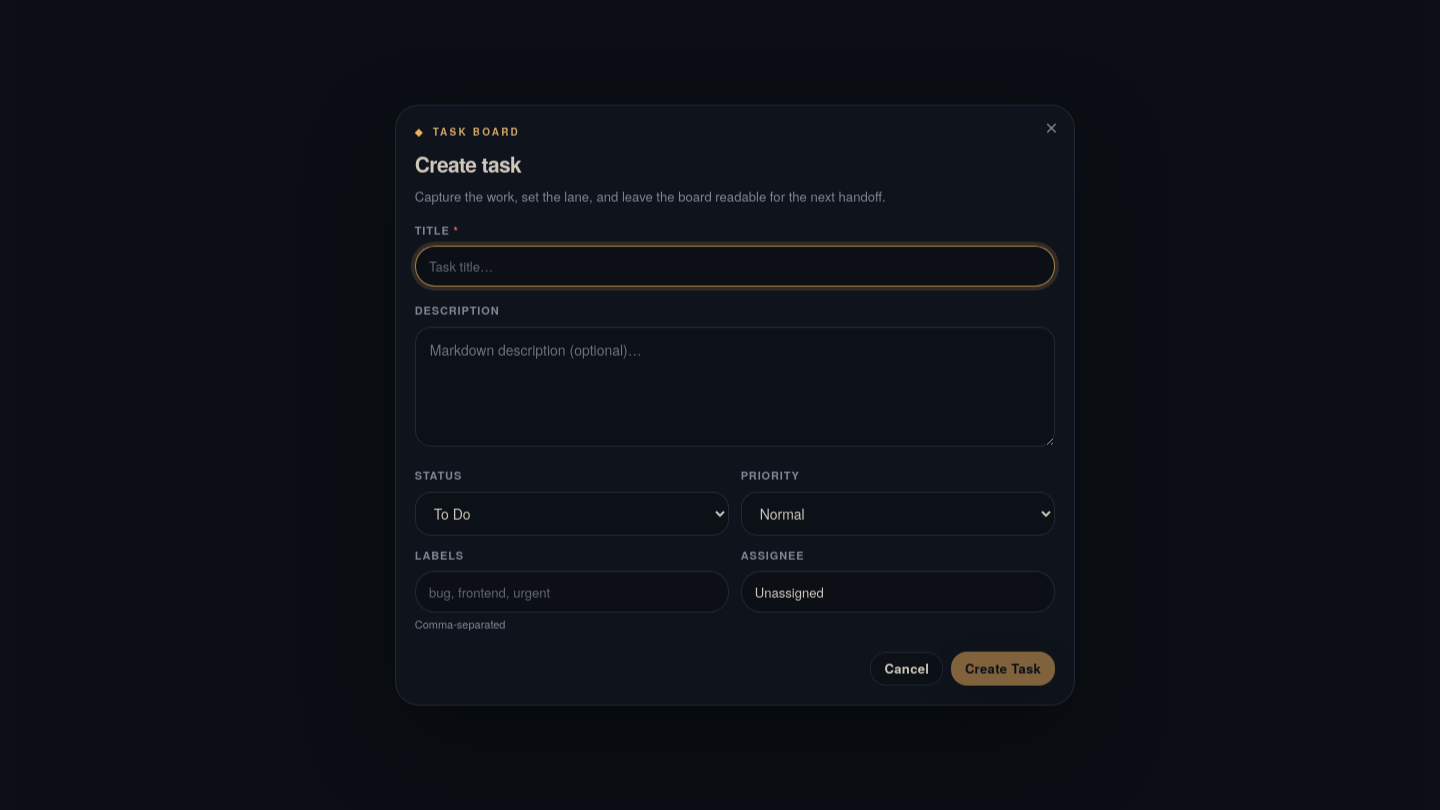
Test: CreateTaskDialog › shows Unassigned, Operator, and active top-level agents in the assignee picker
The width and height of the screenshot is (1440, 810).
Click the dropdown labelled "Assignee".
click(898, 592)  # box [741,571,1055,612]
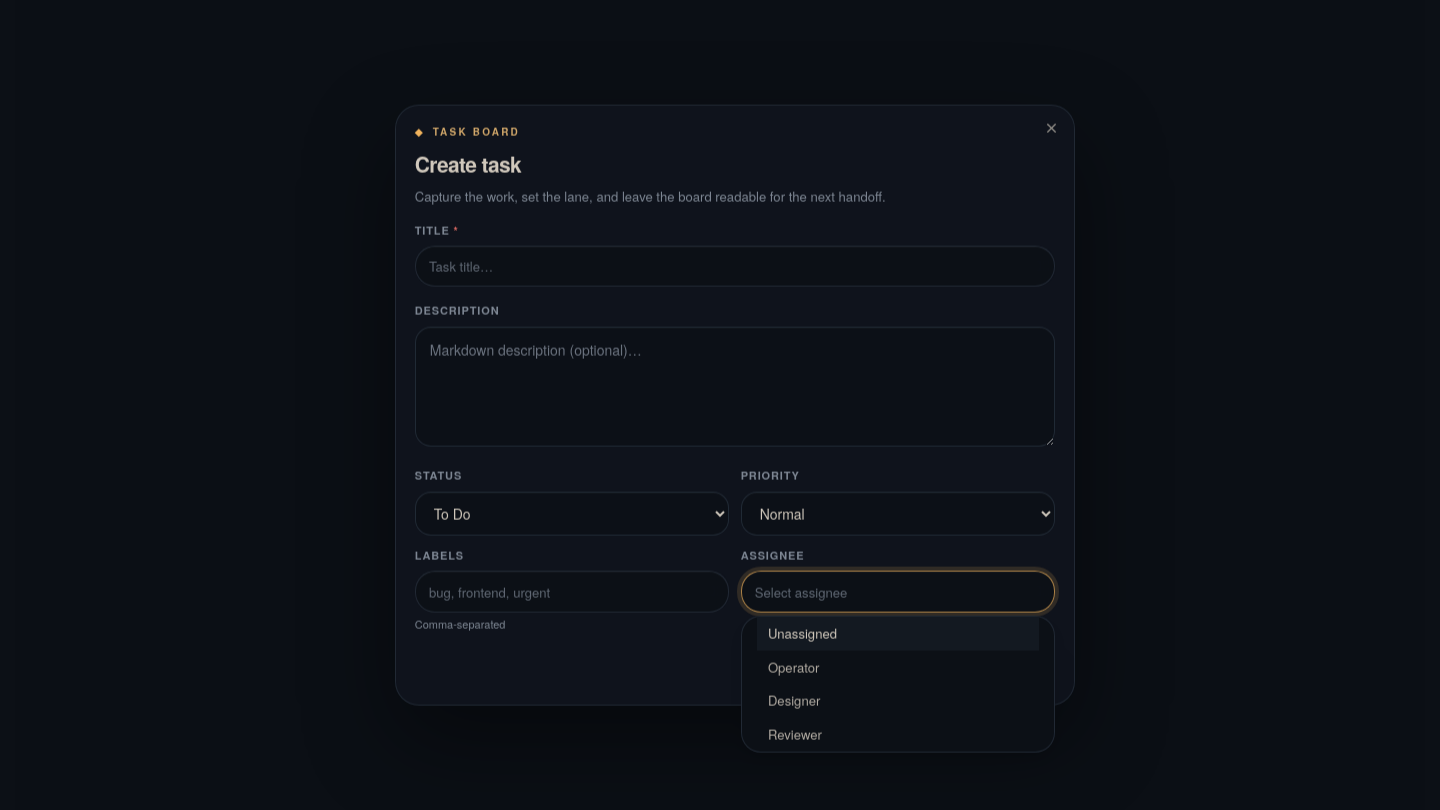
Expected: the option "Unassigned" is shown, [757,617,1039,651]
Expected: the option "Operator" is shown, [768,657,819,676]
Expected: the option "Designer" is shown, [768,691,820,710]
